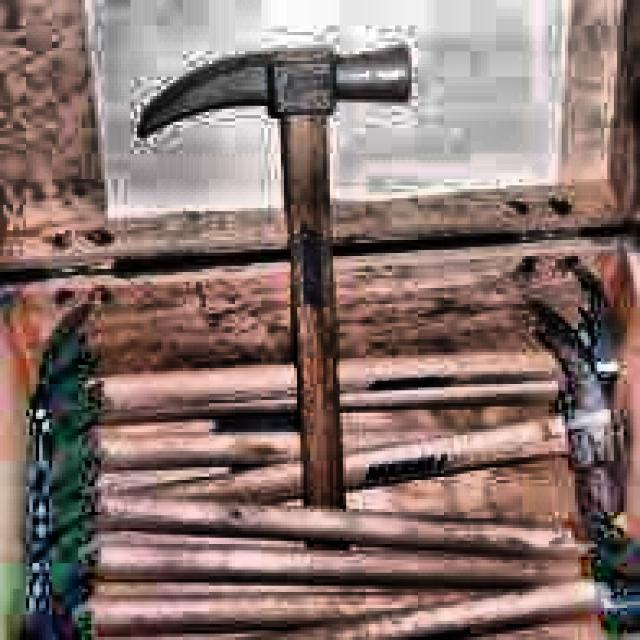hammer: (135, 43, 409, 562)
